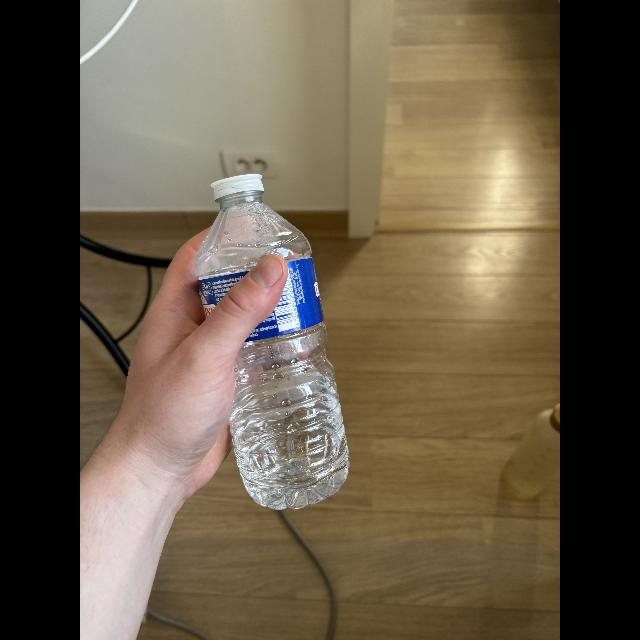Plastic: (192, 172, 356, 518), (500, 402, 560, 506)
